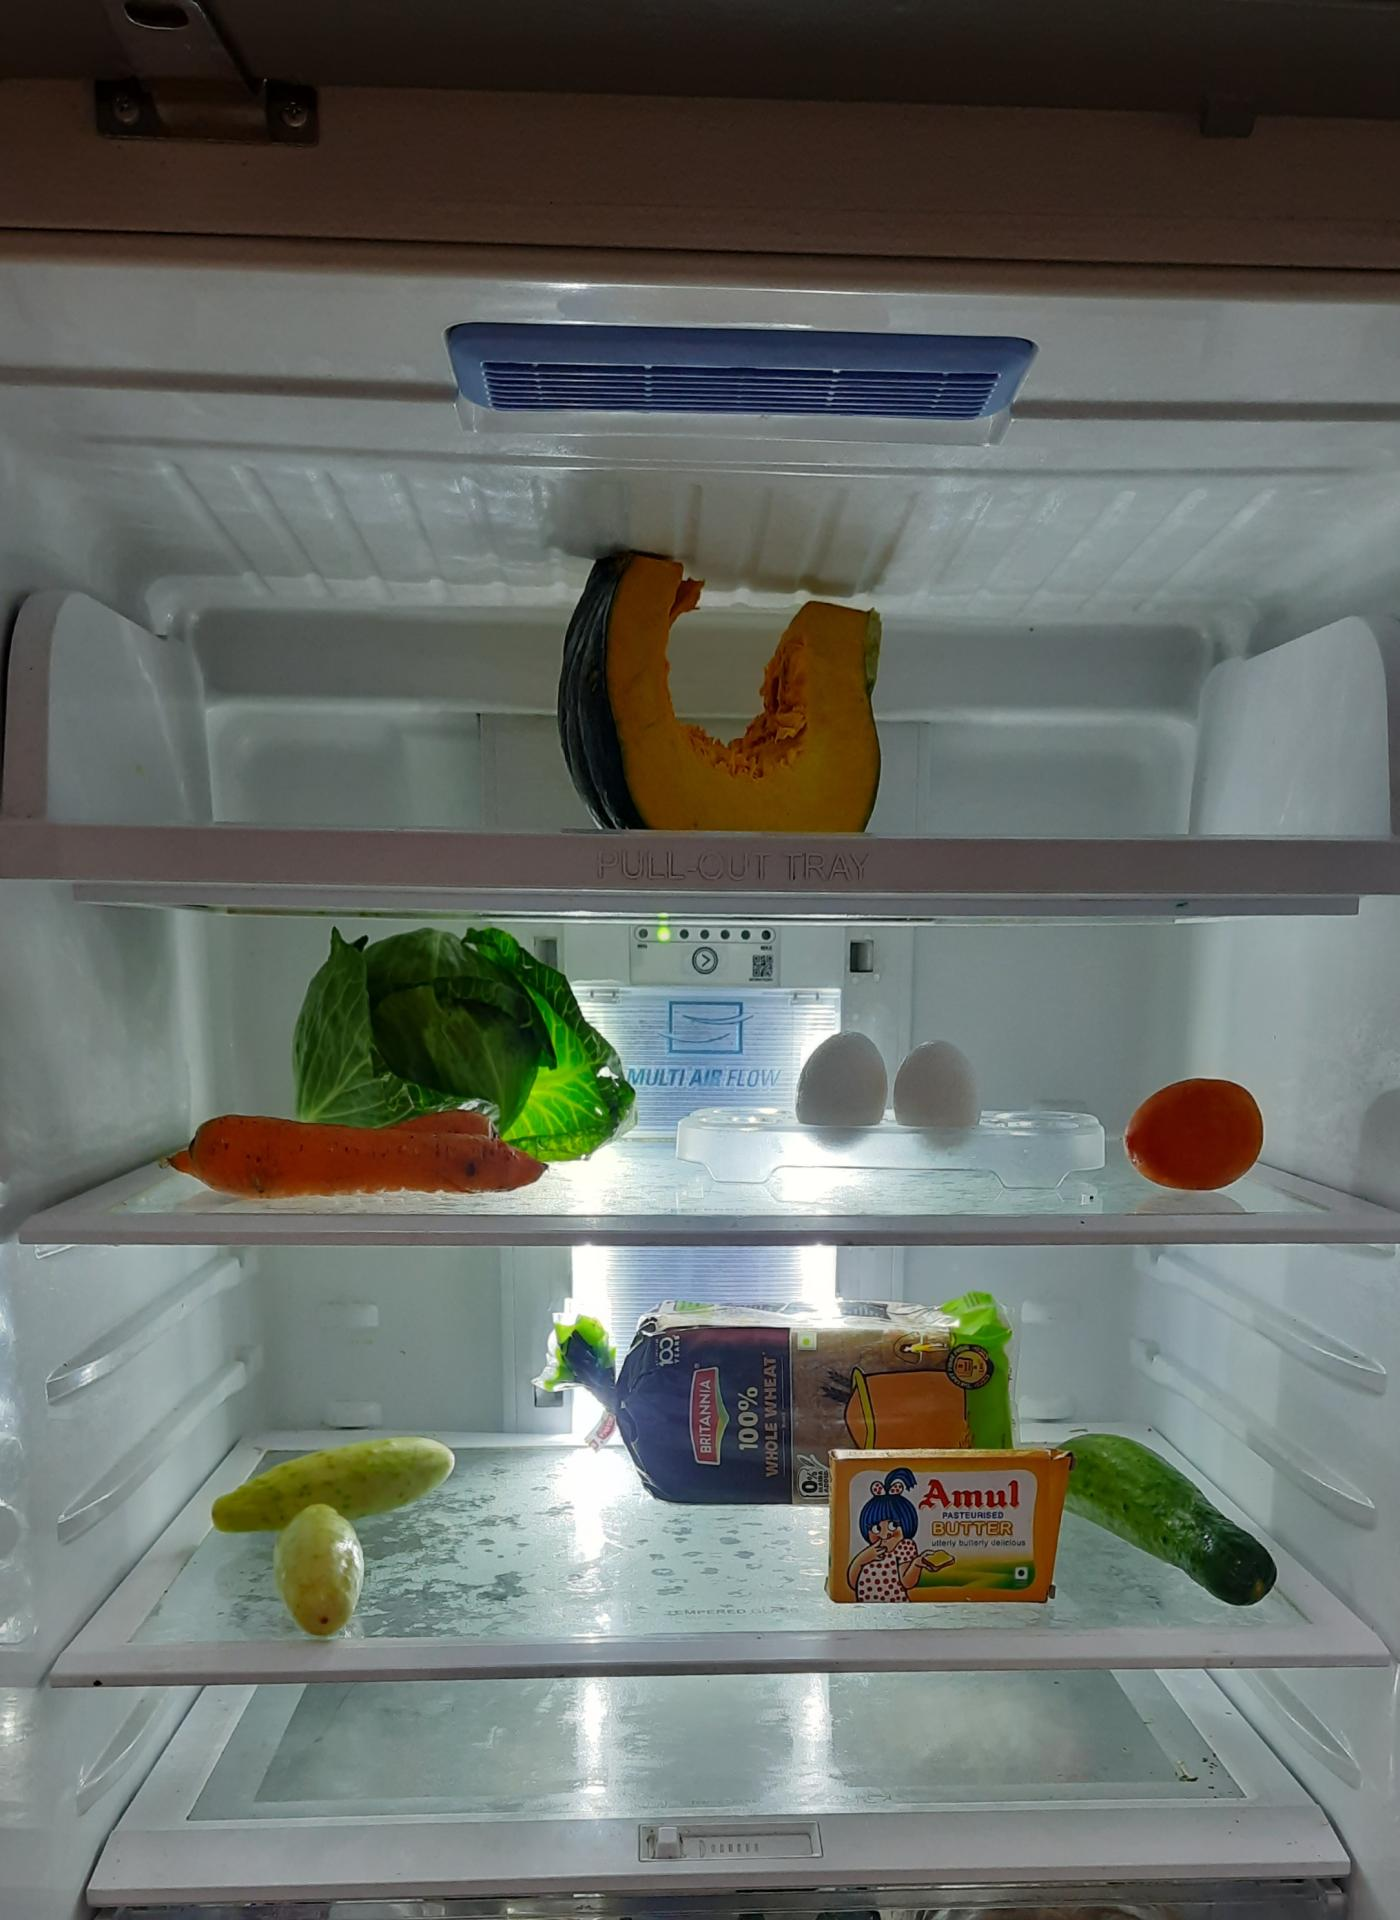bread: (571, 1313, 1003, 1507)
butter: (826, 1447, 1075, 1607)
cabbage: (291, 935, 634, 1158)
carrots: (171, 1103, 552, 1197)
cucumber: (1065, 1441, 1291, 1613), (209, 1436, 459, 1537), (273, 1507, 365, 1641)
egg: (792, 1023, 990, 1155)
pumpkin: (564, 543, 899, 839)
tomato: (1120, 1076, 1264, 1194)
